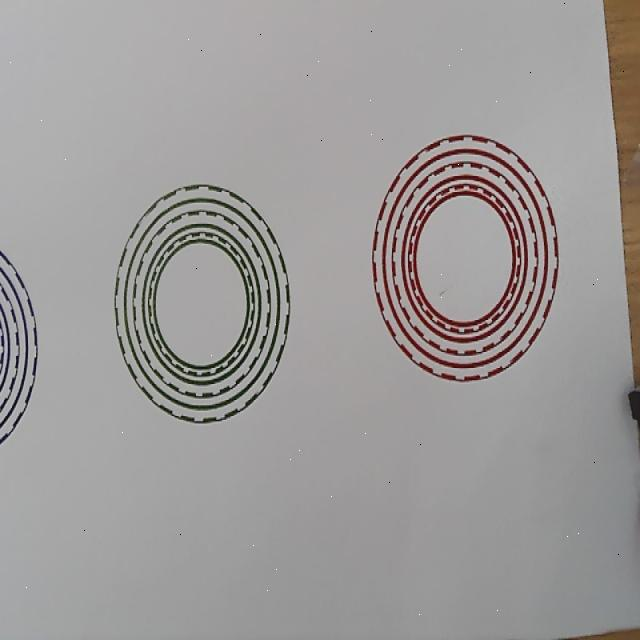g: (114, 184, 290, 423)
red-green-blue: (371, 134, 559, 382)
